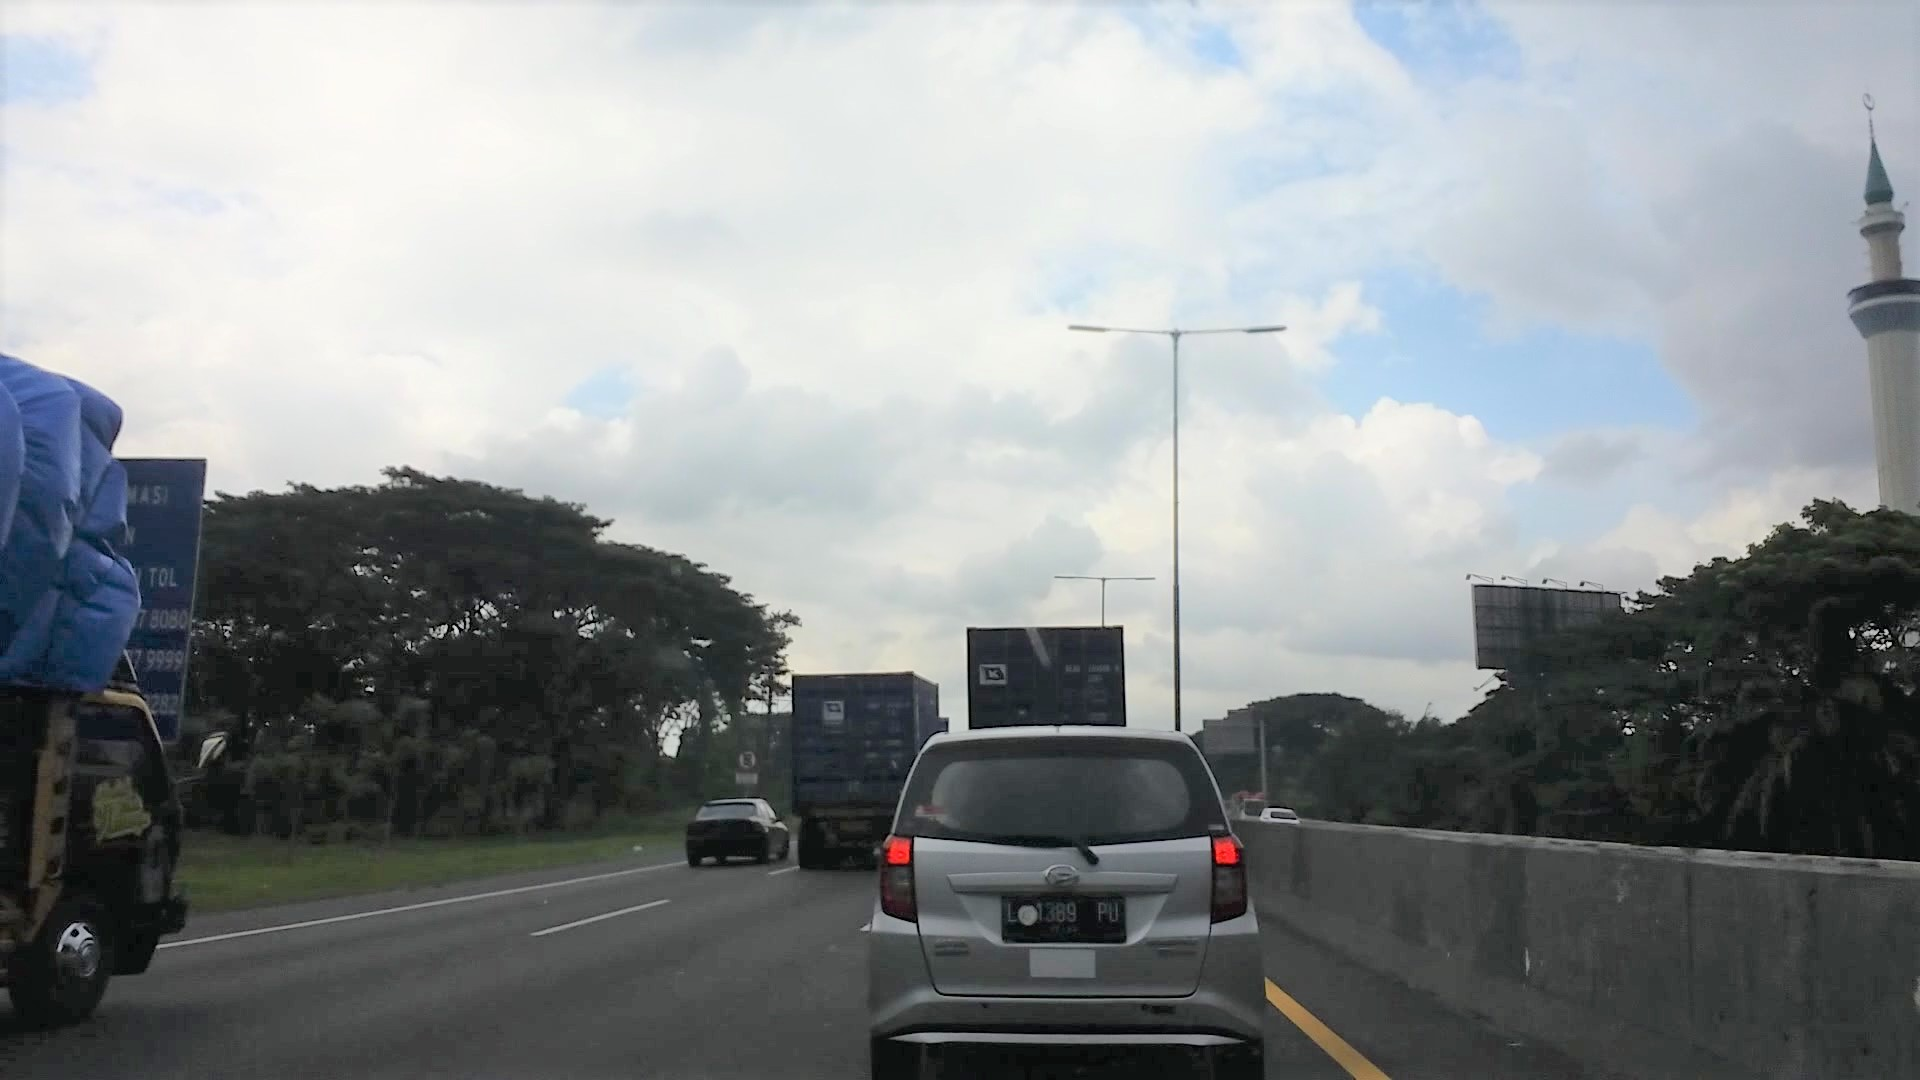plate_positive: (1002, 895, 1127, 945)
